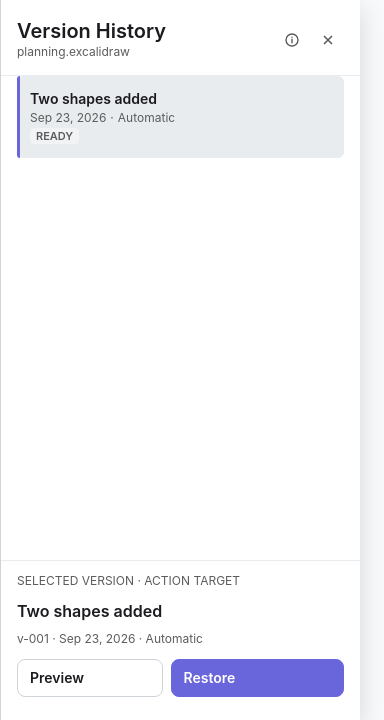
HistoryPanel › opens retention information from the header and closes it with Escape
This screenshot has width=384, height=720.
Click the button named "History info" at {"x": 292, "y": 40}, box [276,24,308,56]
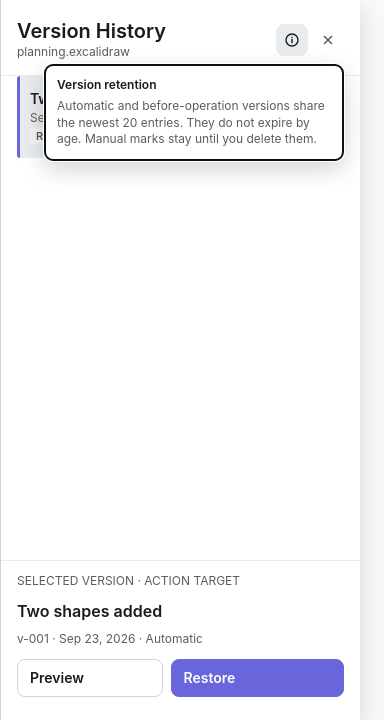
Expected: the option "Two shapes added Sep 23, 2026 · Automatic Ready" is shown, [30,85,335,149]
Expected: the button named "History info" is expanded, [276,24,308,56]
Expected: the element "Version retention" shows "Automatic and before-operation versions share the newest 20 entries. They do not expire by age. Manual marks stay until you delete them.", [57,98,325,146]
Press Escape
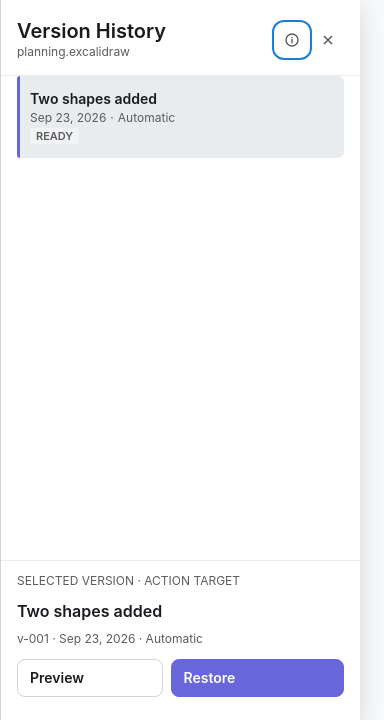
Expected: the button named "History info" is collapsed, [276,24,308,56]
